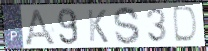3: (145, 8, 169, 43)
9: (56, 6, 81, 47)
A: (21, 7, 58, 47)
D: (172, 5, 200, 45)
K: (86, 8, 110, 44)
S: (113, 6, 142, 46)
